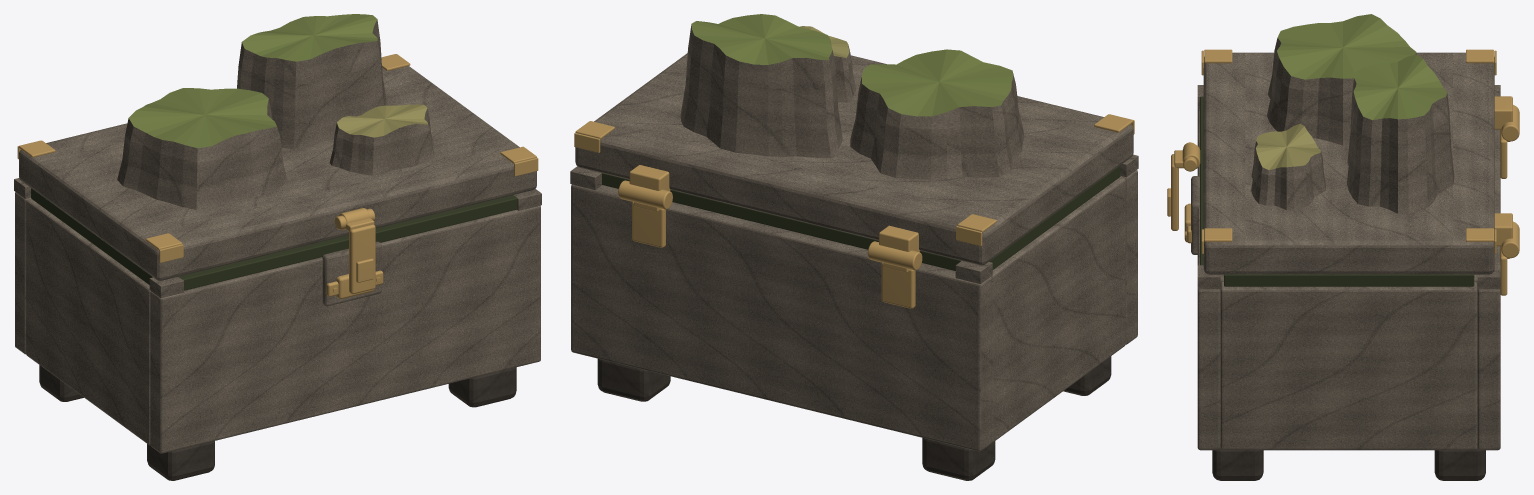
Rendered from ethiopia.glb.
3 views of the same model, side by side, from view 1: azimuth 30°, elevation 25°; view 2: azimuth 150°, elevation 25°; view 3: azimuth 270°, elevation 25° (orthographic). The views are drawn at different scales.
Visible parts, largest first — view 1: Stone body / front rear, Lid / polished slab, Stone body / side, Escarpment / west plateau, Escarpment / east massif, Escarpment / front buttress, Mineral seam / long, Stone foot, Stone foot.002, Stone body / front rear.001, Latch / lifting hasp, Stone / clasp seat (+3 smaller); view 2: Stone body / front rear.001, Lid / polished slab, Stone body / side, Escarpment / east massif, Escarpment / west plateau, Mineral seam / long.001, Stone foot.001, Stone body / front rear, Stone foot.003, Mineral seam / side, Hinge / fixed mount, Hinge / fixed mount.001 (+7 smaller); view 3: Stone body / side.001, Lid / polished slab, Escarpment / east massif, Escarpment / west plateau, Escarpment / front buttress, Stone body / front rear.001, Stone body / front rear, Mineral seam / side.001, Stone foot.003, Stone foot.002, Mineral seam / long, Stone / clasp seat (+11 smaller).
Boxes of the visible parts, bbox=[...] form: Stone body / front rear: bbox=[150, 205, 540, 453]; Lid / polished slab: bbox=[19, 66, 536, 280]; Stone body / side: bbox=[26, 198, 150, 445]; Escarpment / west plateau: bbox=[117, 88, 287, 209]; Escarpment / east massif: bbox=[237, 14, 386, 148]; Escarpment / front buttress: bbox=[329, 104, 434, 175]; Mineral seam / long: bbox=[179, 195, 517, 290]; Stone foot: bbox=[147, 441, 214, 480]; Stone foot.002: bbox=[448, 367, 516, 407]; Stone body / front rear.001: bbox=[15, 192, 31, 354]; Latch / lifting hasp: bbox=[349, 224, 375, 294]; Stone / clasp seat: bbox=[322, 241, 381, 306]; Stone body / front rear.001: bbox=[571, 184, 991, 451]; Lid / polished slab: bbox=[575, 53, 1133, 265]; Stone body / side: bbox=[991, 177, 1125, 442]; Escarpment / east massif: bbox=[680, 14, 842, 158]; Escarpment / west plateau: bbox=[850, 49, 1024, 179]; Mineral seam / long.001: bbox=[602, 173, 960, 270]; Stone foot.001: bbox=[922, 438, 995, 480]; Stone body / front rear: bbox=[1120, 170, 1137, 344]; Stone foot.003: bbox=[597, 358, 670, 401]; Mineral seam / side: bbox=[989, 166, 1120, 269]; Hinge / fixed mount: bbox=[881, 262, 915, 308]; Hinge / fixed mount.001: bbox=[632, 201, 665, 247]; Stone body / side.001: bbox=[1220, 281, 1477, 450]; Lid / polished slab: bbox=[1203, 52, 1494, 274]; Escarpment / east massif: bbox=[1347, 54, 1454, 213]; Escarpment / west plateau: bbox=[1267, 14, 1416, 145]; Escarpment / front buttress: bbox=[1251, 123, 1326, 210]; Stone body / front rear.001: bbox=[1477, 129, 1500, 450]; Stone body / front rear: bbox=[1197, 109, 1220, 450]; Mineral seam / side.001: bbox=[1224, 274, 1474, 286]; Stone foot.003: bbox=[1434, 448, 1485, 480]; Stone foot.002: bbox=[1212, 448, 1263, 480]; Mineral seam / long: bbox=[1200, 96, 1203, 265]; Stone / clasp seat: bbox=[1191, 176, 1199, 254].
Bounding box in the file's own units: 3.72 × 3.08 × 2.88.
6 materials, 2 textured.
